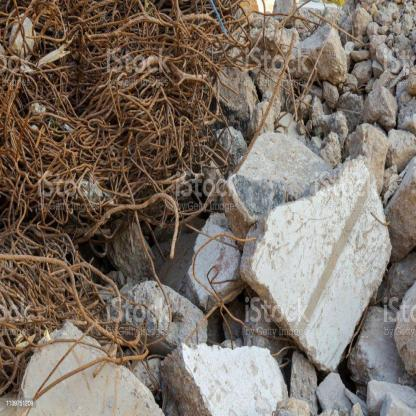rebar: (1, 0, 263, 397)
